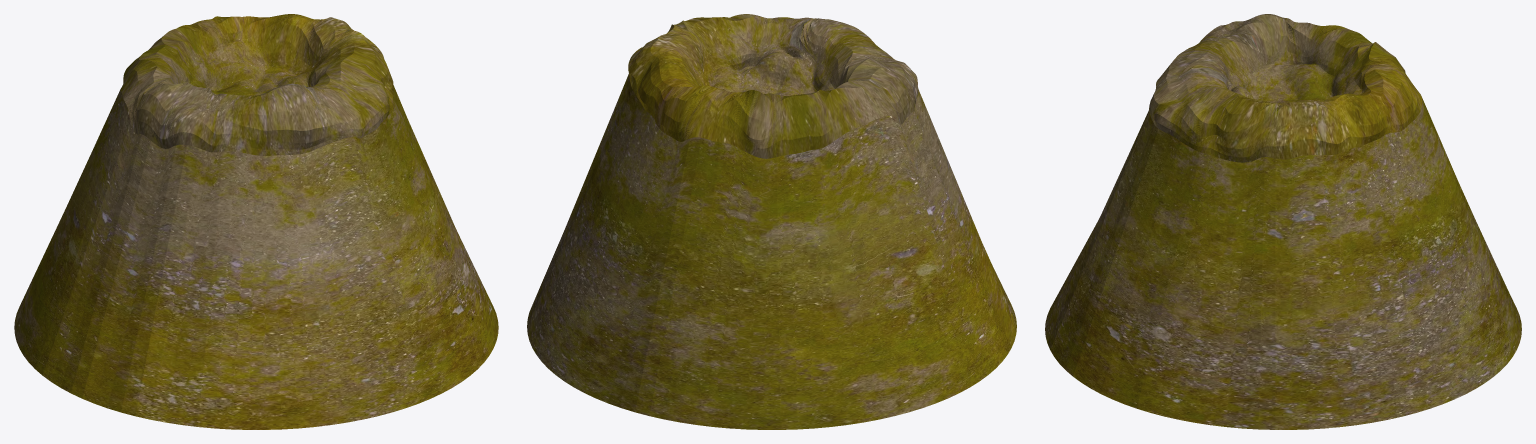
The model's file is cratera_skin.glb.
3 views of the same model, side by side, from view 1: azimuth 30°, elevation 25°; view 2: azimuth 150°, elevation 25°; view 3: azimuth 270°, elevation 25° (orthographic). The views are drawn at different scales.
Parts seen in each view (by area): view 1: Cone; view 2: Cone; view 3: Cone.
Boxes of the visible parts, x1=… form: Cone: x1=14, y1=14, x2=498, y2=429; Cone: x1=527, y1=14, x2=1016, y2=429; Cone: x1=1045, y1=14, x2=1521, y2=429.
Size of the model in its own units: 4 by 2.5 by 4.
Materials: 1 (1 with a texture image).
